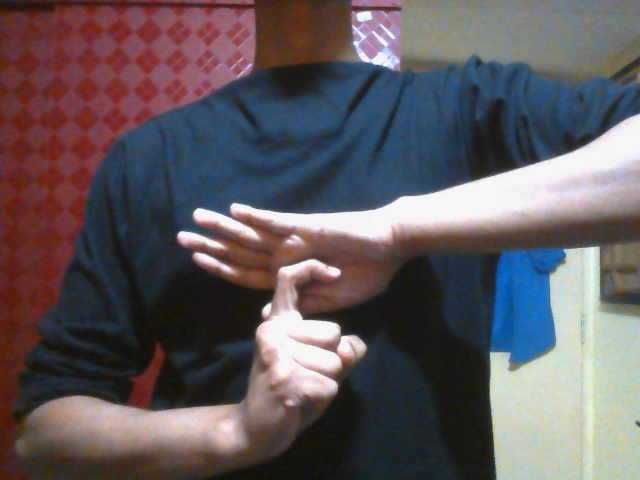R: (176, 196, 410, 447)
